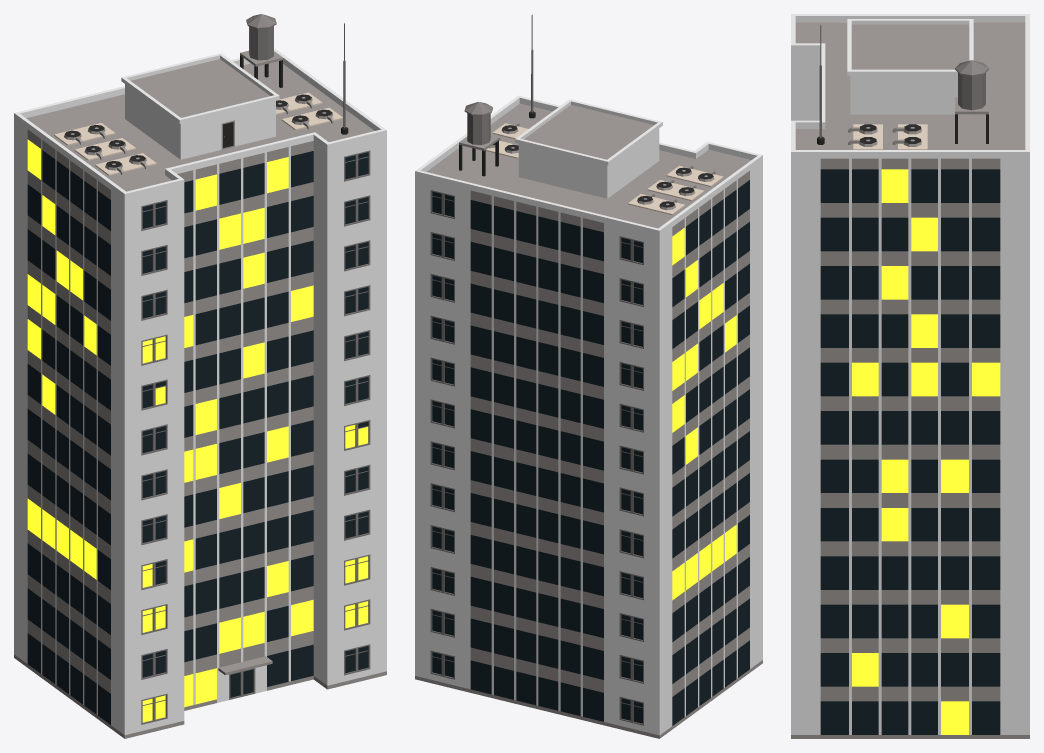
The model's file is building-office-big.glb.
The picture shows the model from 3 angles, left to right: view 1: azimuth 30°, elevation 25°; view 2: azimuth 150°, elevation 25°; view 3: azimuth 270°, elevation 25°; orthographic projection. The views are drawn at different scales.
Visible parts, largest first — view 1: building_office_big; view 2: building_office_big; view 3: building_office_big.
Boxes of the visible parts, x1,y1,x2,y2 form: building_office_big: (14, 14, 386, 738); building_office_big: (415, 14, 762, 738); building_office_big: (791, 14, 1029, 738).
Size of the model in its own units: 22 by 52.08 by 16.1.
1 material, 1 textured.
